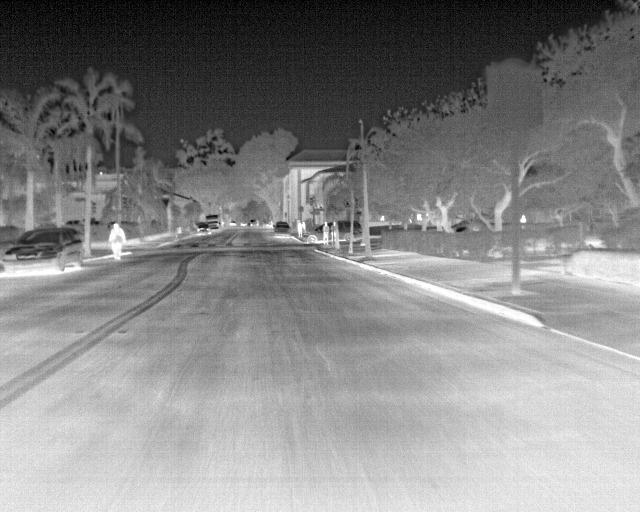bicycle: (2, 225, 85, 276), (303, 225, 325, 245), (274, 220, 292, 238), (351, 220, 363, 243), (196, 220, 212, 236), (206, 214, 221, 230)
empty: (107, 221, 127, 259), (329, 221, 342, 251), (293, 218, 305, 241), (517, 213, 529, 227)
